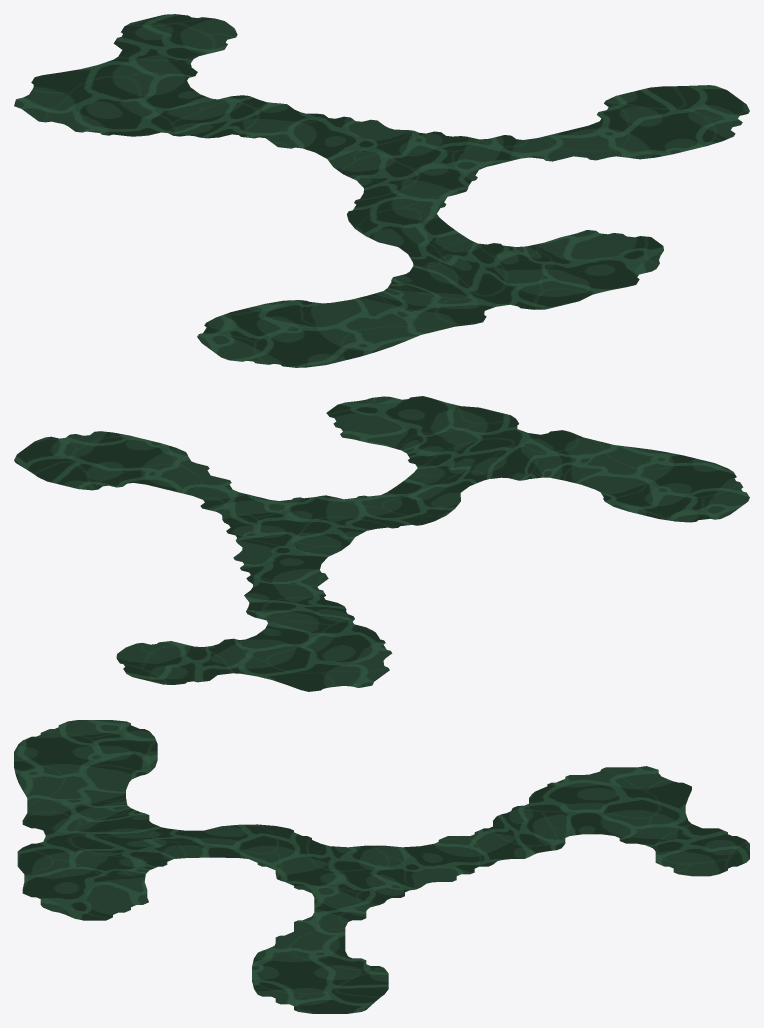
Rendered from WaterMesh.fbx.
3 renders of one model, top to bottom at view 1: azimuth 30°, elevation 25°; view 2: azimuth 150°, elevation 25°; view 3: azimuth 270°, elevation 25°, orthographic. The views are drawn at different scales.
Visible parts, largest first — view 1: polySurface42; view 2: polySurface42; view 3: polySurface42.
Part boxes in pixels (x1,y1,x2,y2): polySurface42: (14, 14, 749, 367); polySurface42: (14, 396, 749, 691); polySurface42: (14, 720, 749, 1013).
Size of the model in its own units: 231 by 7.15e-07 by 244.
Materials: 1 (1 with a texture image).
